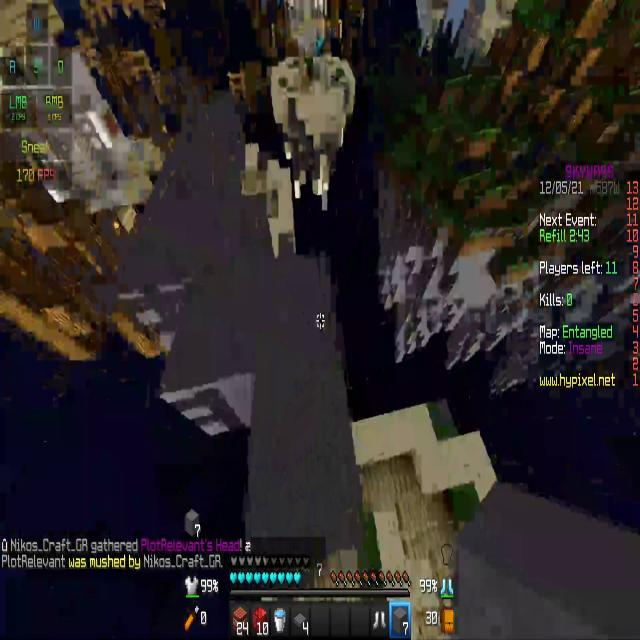Player: (311, 21, 328, 66)
